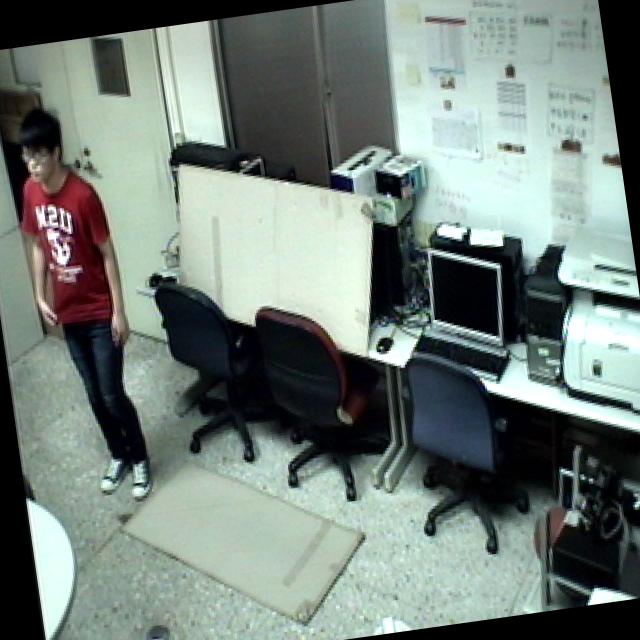stand: (0, 99, 157, 514)
